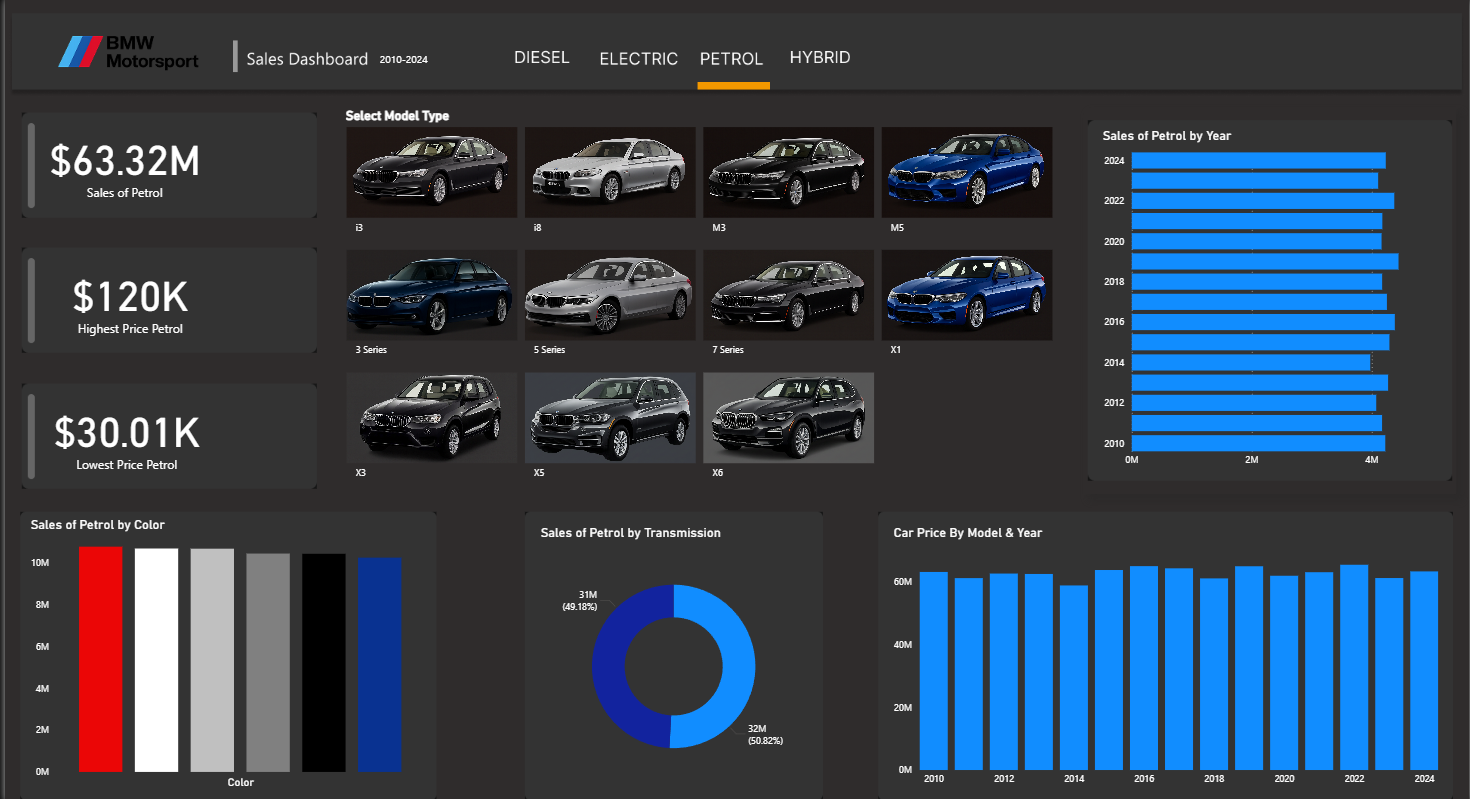

What the dashboard file says about the page in this screenshot:
{"tool":"powerbi","page":{"name":"Petrol","canvas":[1920,1056],"ordinal":2},"visuals":[{"type":"image","box":[16.5,143.7,396.6,149.6],"z":0},{"type":"image","box":[16.5,321.7,396.6,149.6],"z":1000},{"type":"image","box":[16.5,499.8,396.6,149.6],"z":2000},{"type":"image","box":[1415.7,143.7,487.9,505.8],"z":3000},{"type":"image","box":[0,668.9,585.1,387.6],"z":4000},{"type":"image","box":[631.5,668.9,493.8,387.6],"z":5000},{"type":"image","box":[1125.4,668.9,794.6,387.6],"z":6000},{"type":"actionButton","box":[776.6,52.4,112.9,40.3],"z":7000},{"type":"actionButton","box":[904.2,52.4,95.4,40.3],"z":8000},{"type":"actionButton","box":[1019.8,52.4,95.4,40.3],"z":9000},{"type":"card","fields":{"Values":["Petrol Measure.Sales of Petrol"]},"box":[48.6,156.3,227.2,122.1],"z":10000},{"type":"card","fields":{"Values":["Petrol Measure.Highest Price Petrol"]},"box":[48.6,334.9,236.4,122.1],"z":11000},{"type":"card","fields":{"Values":["Petrol Measure.Lowest Price Petrol"]},"box":[48.6,513.6,227.2,122.1],"z":12000},{"type":"barChart","fields":{"Category":["BMW sales data 2010-2024.Year.Variation.Date Hierarchy.Year"],"Y":["Petrol Measure.Sales of Petrol"]},"box":[1435.6,170.7,450.5,453.1],"z":13000},{"type":"columnChart","fields":{"Category":["BMW sales data 2010-2024.Color"],"Y":["Petrol Measure.Sales of Petrol"]},"box":[28.6,681.4,527.1,361.4],"z":14000},{"type":"donutChart","fields":{"Category":["BMW sales data 2010-2024.Transmission"],"Y":["Petrol Measure.Sales of Petrol"]},"box":[697.4,690.9,358.6,352],"z":15000},{"type":"advancedSlicerVisual","title":"Select Model Type","fields":{"Values":["Car Images.Links"],"Label":["Min(Car Images.Model)"]},"box":[441.4,144.3,938.6,505.7],"z":16000},{"type":"lineStackedColumnComboChart","title":"Car Price By Model & Year","fields":{"Y":["Sum(BMW sales data 2010-2024.Price_USD)"],"Category":["BMW sales data 2010-2024.Year.Variation.Date Hierarchy.Year"]},"box":[1161.4,691.4,724.3,351.4],"z":17000},{"type":"image","box":[0,0,1920,150.5],"z":18000},{"type":"actionButton","box":[656.7,54.6,100.1,40.3],"z":19000},{"type":"actionButton","box":[776.4,54.6,113.1,40.3],"z":20000},{"type":"actionButton","box":[1019.6,54.6,100.1,40.3],"z":21000},{"type":"textbox","box":[486.4,66.3,83.2,28.6],"z":22000}]}

Visuals, with their boxes in screenshot pixels (x1, y1, x2, y2), scaled from the page's 1920x1056 canvas onto the 1470x799 screenshot:
image: x1=13, y1=109, x2=316, y2=222
image: x1=13, y1=243, x2=316, y2=357
image: x1=13, y1=378, x2=316, y2=491
image: x1=1084, y1=109, x2=1457, y2=491
image: x1=0, y1=506, x2=448, y2=798
image: x1=483, y1=506, x2=862, y2=798
image: x1=862, y1=506, x2=1469, y2=798
actionButton: x1=595, y1=40, x2=681, y2=70
actionButton: x1=692, y1=40, x2=765, y2=70
actionButton: x1=781, y1=40, x2=854, y2=70
card - Petrol Measure.Sales of Petrol: x1=37, y1=118, x2=211, y2=211
card - Petrol Measure.Highest Price Petrol: x1=37, y1=253, x2=218, y2=346
card - Petrol Measure.Lowest Price Petrol: x1=37, y1=389, x2=211, y2=481
barChart - BMW sales data 2010-2024.Year.Variation.Date Hierarchy.Year x Petrol Measure.Sales of Petrol: x1=1099, y1=129, x2=1444, y2=472
columnChart - BMW sales data 2010-2024.Color x Petrol Measure.Sales of Petrol: x1=22, y1=516, x2=425, y2=789
donutChart - BMW sales data 2010-2024.Transmission x Petrol Measure.Sales of Petrol: x1=534, y1=523, x2=808, y2=789
"Select Model Type" advancedSlicerVisual: x1=338, y1=109, x2=1057, y2=492
"Car Price By Model & Year" lineStackedColumnComboChart: x1=889, y1=523, x2=1444, y2=789
image: x1=0, y1=0, x2=1469, y2=114
actionButton: x1=503, y1=41, x2=579, y2=72
actionButton: x1=594, y1=41, x2=681, y2=72
actionButton: x1=781, y1=41, x2=857, y2=72
textbox: x1=372, y1=50, x2=436, y2=72
